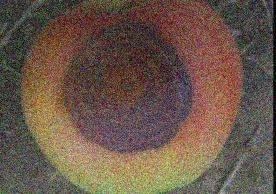rotten apple: (13, 1, 244, 193)
